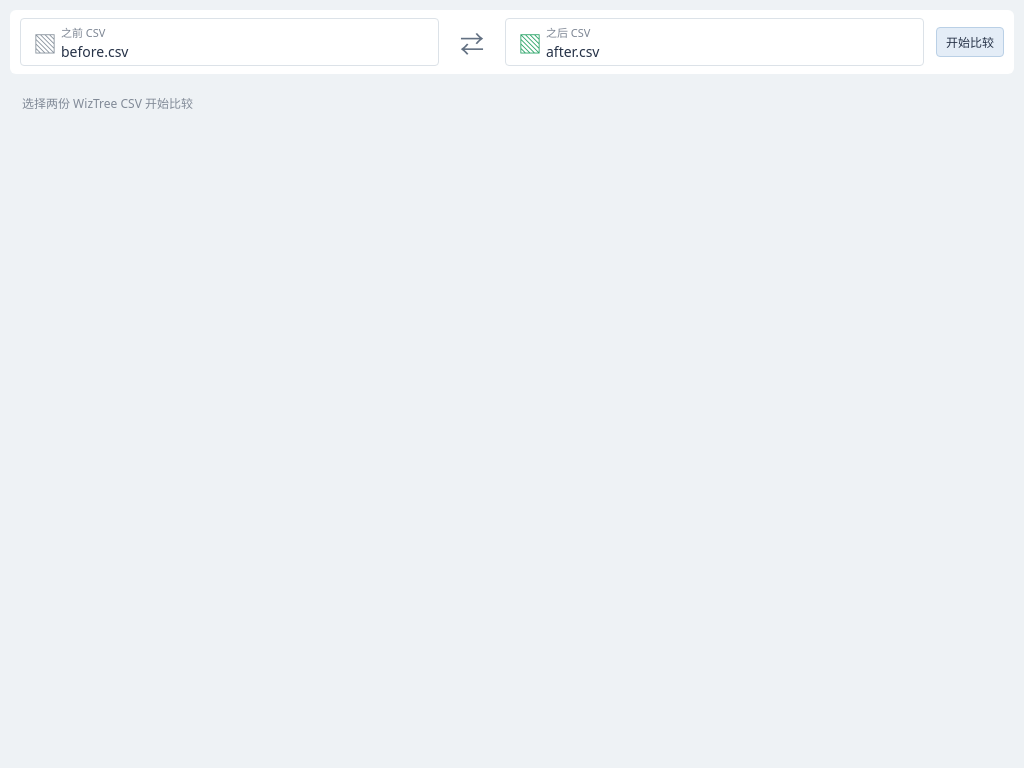
Test: keeps the previous comparison on failure, cancellation, and failed summary reads
Click the button "开始比较". click: (970, 42)
box: [936, 27, 1004, 57]
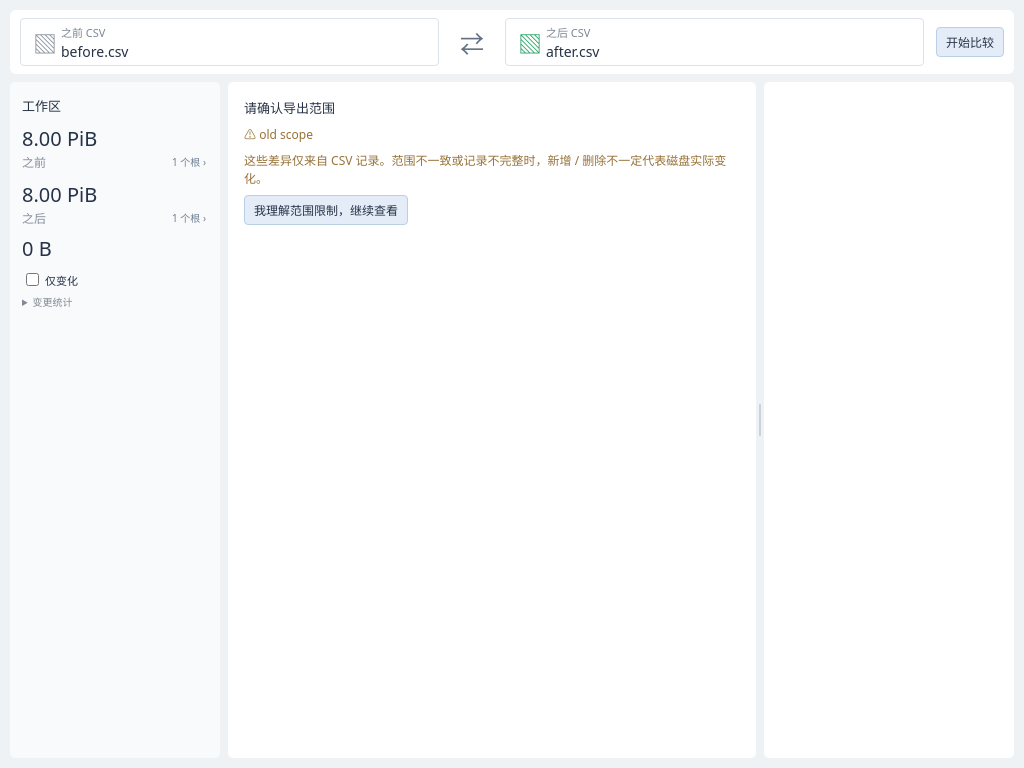
Check: the text "⚠ old scope" is shown, box [244, 126, 313, 143]
Click the button "开始比较". click: (970, 42)
box: [936, 27, 1004, 57]
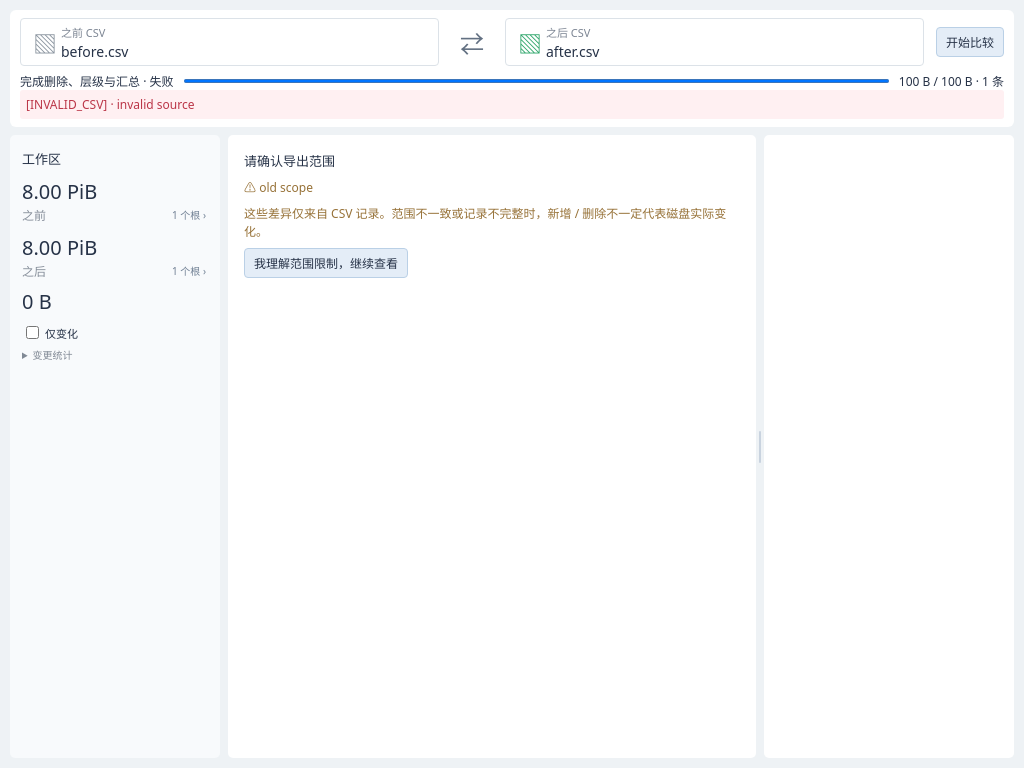
Check: the text "⚠ old scope" is shown, box [244, 179, 313, 196]
Click the button "开始比较". click: (970, 42)
box: [936, 27, 1004, 57]
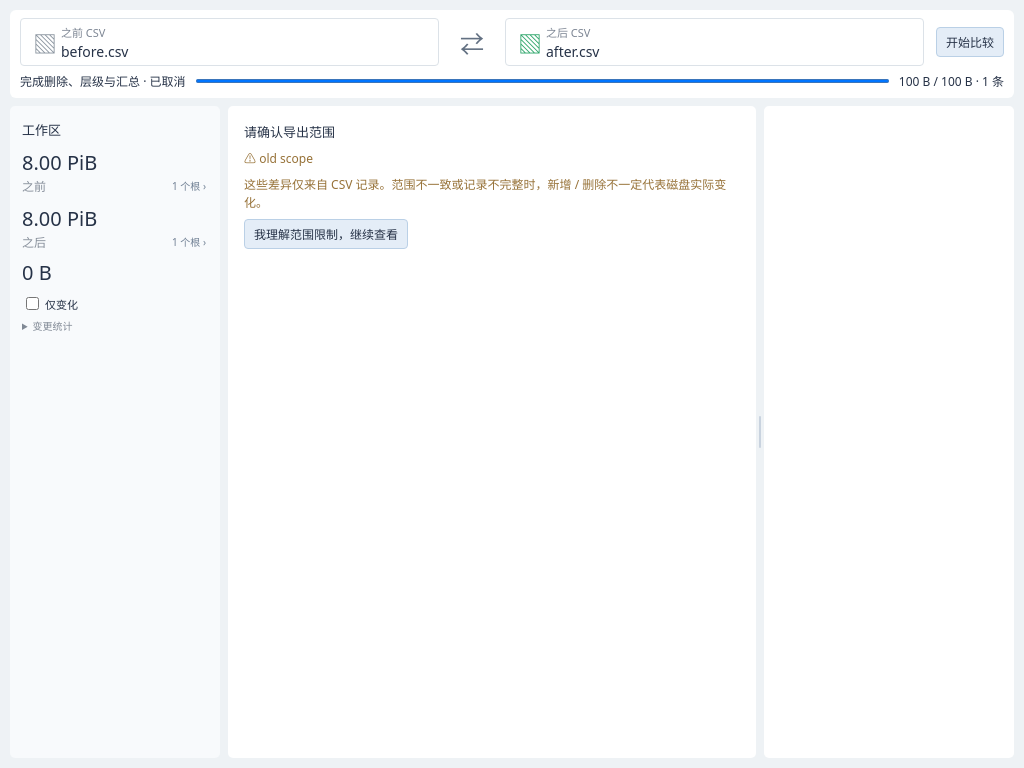
Check: the text "⚠ old scope" is shown, box [244, 150, 313, 167]
Click the button "开始比较". click: (970, 42)
box: [936, 27, 1004, 57]
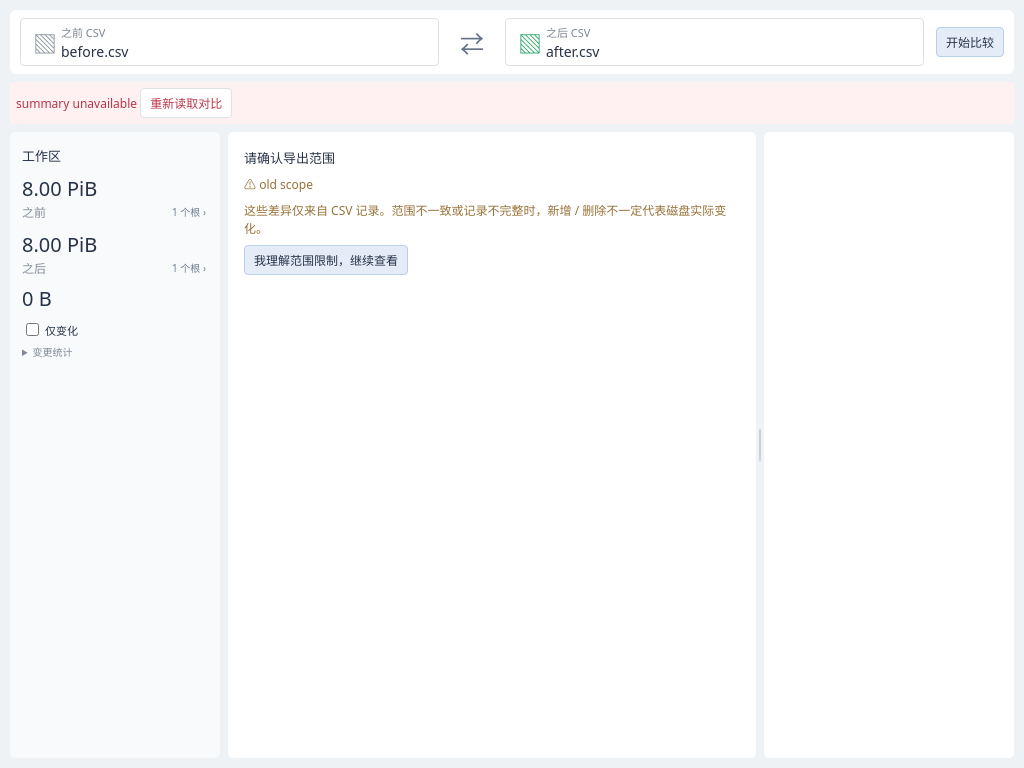
Check: the text "⚠ old scope" is shown, box [244, 176, 313, 193]
Check: the text "summary unavailable" is shown, box [16, 95, 137, 112]
Click the button "重新读取对比". click: (186, 103)
box: [140, 88, 232, 118]
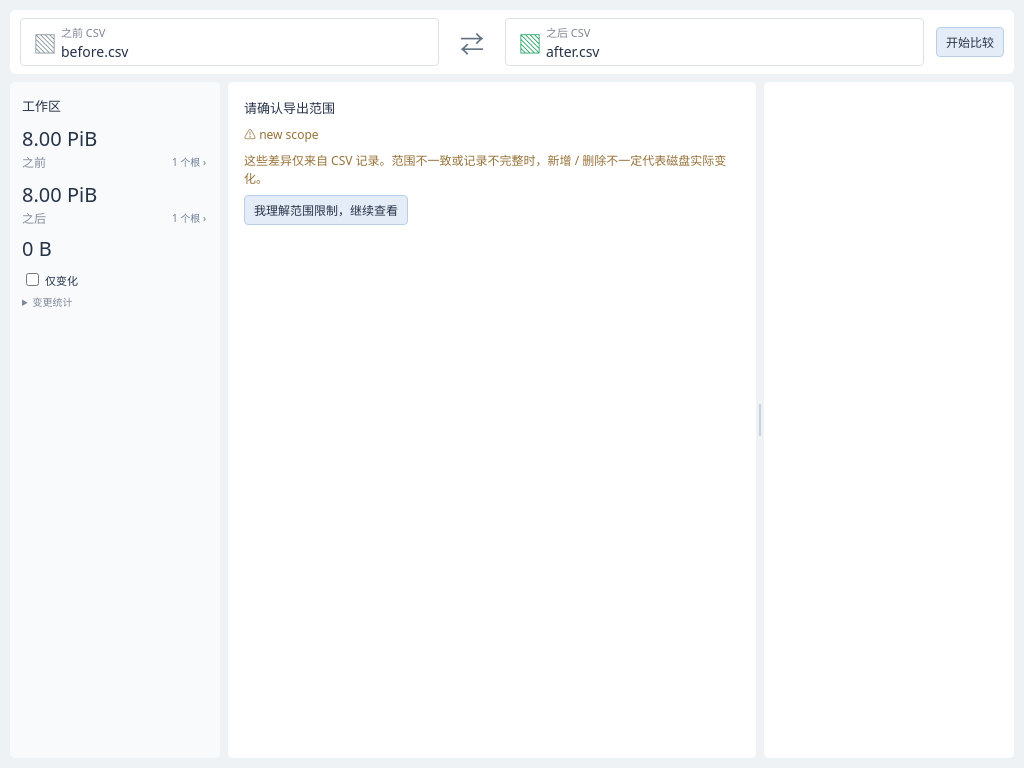
Check: the text "⚠ new scope" is shown, box [244, 126, 318, 143]
Check: the text "old scope" is gone
